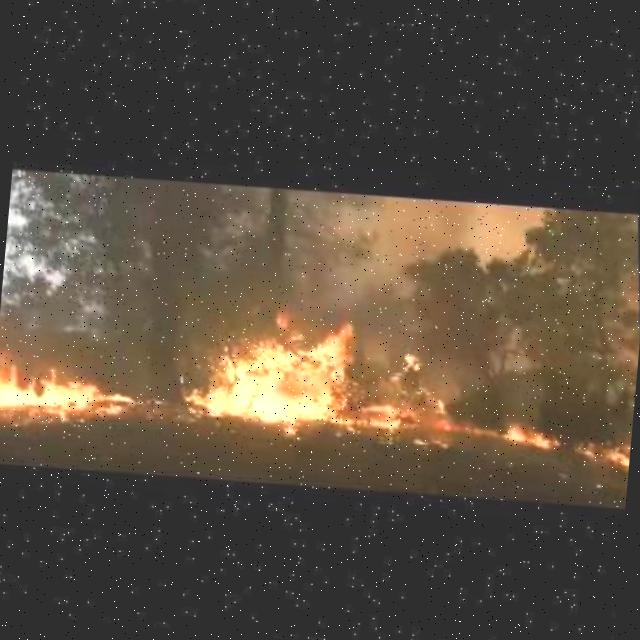fire: (163, 276, 370, 454), (0, 335, 151, 438)
